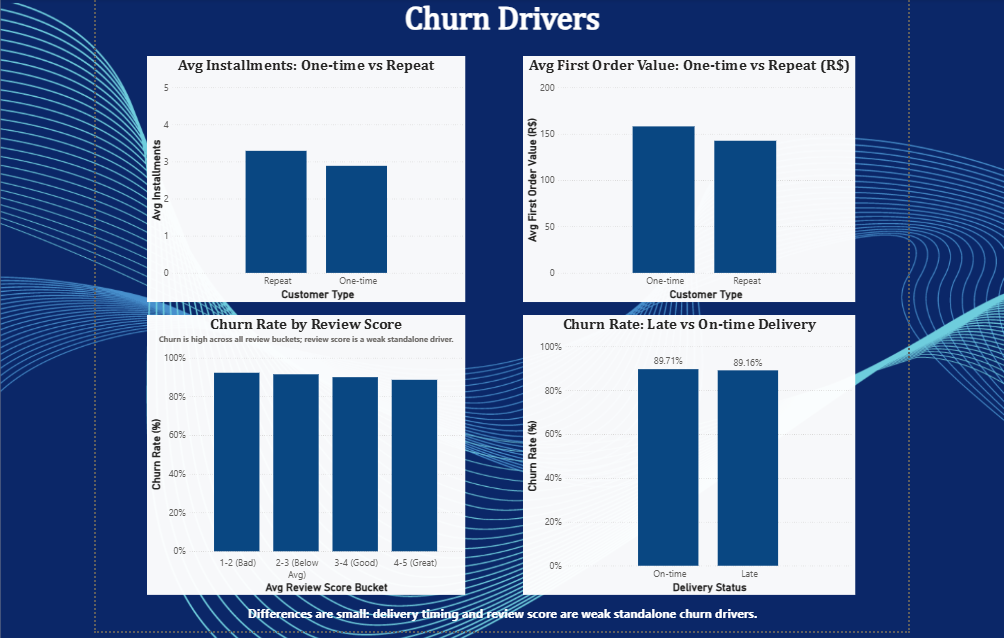

This screenshot's page, from the dashboard's own definition file:
{"tool":"powerbi","page":{"name":"Churn Drivers","canvas":[1800,1400],"ordinal":2},"visuals":[{"type":"clusteredColumnChart","title":"Churn Rate: Late vs On-time Delivery","fields":{"Category":["late_delivery_churn.had_late_delivery"],"Y":["Avg(late_delivery_churn.churned)"]},"box":[945.5,700,736.4,620.5],"z":2000},{"type":"clusteredColumnChart","title":"Churn Rate by Review Score","fields":{"Category":["review_churn.review_bucket"],"Y":["Avg(review_churn.churned)"]},"box":[113.6,700,704.5,620.5],"z":3000},{"type":"clusteredColumnChart","title":"Avg First Order Value: One-time vs Repeat (R$)","fields":{"Category":["payment_comparison.customer_type"],"Y":["Avg(payment_comparison.avg_first_order_value)"]},"box":[945.5,127.3,736.4,545.5],"z":4000},{"type":"clusteredColumnChart","title":"Avg Installments: One-time vs Repeat","fields":{"Category":["payment_comparison.customer_type"],"Y":["Avg(payment_comparison.avg_installments)"]},"box":[113.6,127.3,704.5,545.5],"z":5000},{"type":"textbox","box":[0,0,1800,104.5],"z":6000},{"type":"textbox","box":[152.3,1338.6,1495.5,61.4],"z":7000}]}

Visuals, with their boxes in screenshot pixels (x1, y1, x2, y2):
"Churn Rate: Late vs On-time Delivery" clusteredColumnChart: detection(519, 312, 850, 591)
"Churn Rate by Review Score" clusteredColumnChart: detection(145, 312, 462, 591)
"Avg First Order Value: One-time vs Repeat (R$)" clusteredColumnChart: detection(519, 55, 850, 300)
"Avg Installments: One-time vs Repeat" clusteredColumnChart: detection(145, 55, 462, 300)
textbox: detection(94, 0, 903, 44)
textbox: detection(163, 599, 835, 627)
